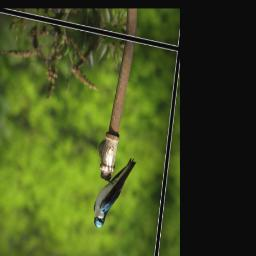Swallow: (91, 149, 137, 236)
